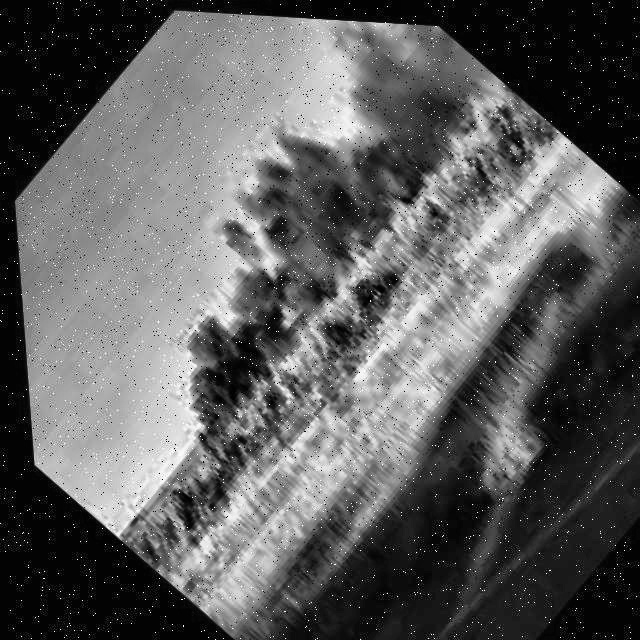Smoke: (65, 3, 541, 463)
